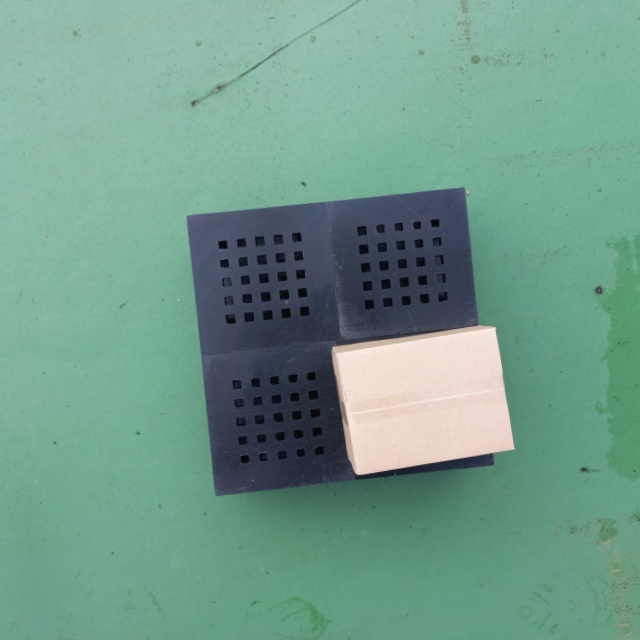box: (332, 325, 515, 480)
pallet: (178, 175, 509, 508)
